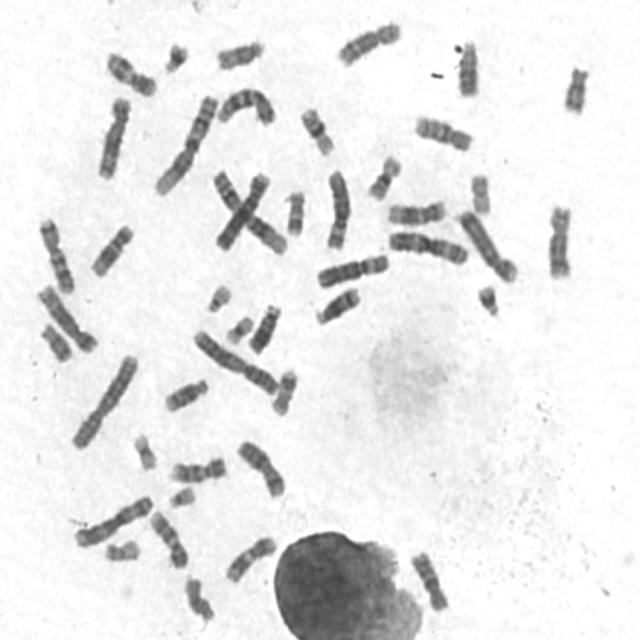A1: (147, 86, 220, 198), (207, 162, 289, 256)
A2: (64, 346, 141, 453), (187, 322, 281, 397)
A3: (68, 488, 156, 550), (381, 222, 472, 268)
B4: (450, 202, 520, 286), (209, 165, 275, 254)
B5: (30, 276, 100, 356), (90, 89, 133, 182)
C10: (405, 543, 452, 614), (408, 106, 476, 154)
C11: (219, 528, 279, 586), (99, 44, 159, 99)
C12: (84, 217, 136, 280), (381, 193, 449, 227)
C6: (311, 246, 393, 290), (320, 162, 354, 252)
C7: (31, 210, 77, 296), (211, 80, 278, 128)
C8: (330, 12, 405, 68), (541, 196, 576, 283)
C9: (144, 504, 190, 570), (162, 448, 230, 485)
D13: (241, 297, 284, 356), (451, 32, 482, 99)
D14: (309, 279, 363, 328), (158, 371, 211, 415)
D15: (177, 575, 221, 629), (210, 31, 267, 72)
E16: (294, 99, 338, 158), (360, 147, 405, 202)
E17: (265, 360, 300, 418), (280, 183, 308, 238)
E18: (556, 58, 592, 116), (34, 315, 74, 364)
F19: (127, 425, 160, 473), (220, 309, 256, 346)
F20: (464, 166, 494, 216), (98, 532, 143, 564)
G21: (156, 34, 192, 76), (471, 276, 503, 320)
G22: (200, 277, 234, 314), (162, 480, 198, 510)
X: (231, 433, 289, 500)
